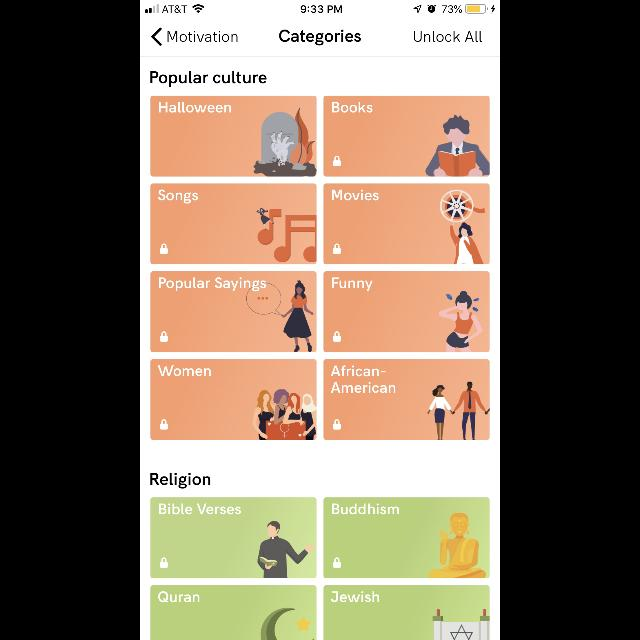icon: (152, 28, 162, 46), (333, 418, 341, 429), (333, 243, 341, 254), (160, 558, 168, 568), (160, 419, 168, 429), (333, 332, 341, 342), (160, 332, 168, 342), (160, 244, 168, 254), (333, 156, 341, 166), (334, 557, 341, 567)
image: (246, 280, 316, 352), (254, 108, 316, 176), (426, 116, 488, 176), (428, 514, 486, 578), (439, 190, 489, 264), (427, 382, 489, 440), (257, 208, 317, 264), (258, 520, 314, 578), (254, 388, 316, 439), (438, 290, 482, 352), (433, 608, 489, 640), (262, 608, 314, 640)
text: (331, 365, 395, 393), (152, 72, 266, 86), (160, 278, 266, 292), (279, 30, 361, 46), (150, 473, 210, 489), (159, 102, 231, 114), (159, 504, 241, 514), (168, 32, 238, 42), (332, 504, 400, 514), (414, 32, 482, 42), (332, 278, 372, 292), (158, 190, 198, 204), (157, 366, 210, 376), (331, 592, 379, 602), (332, 102, 372, 114), (332, 190, 378, 200), (158, 592, 200, 602)
uppertaskbar: (140, 0, 500, 14)
